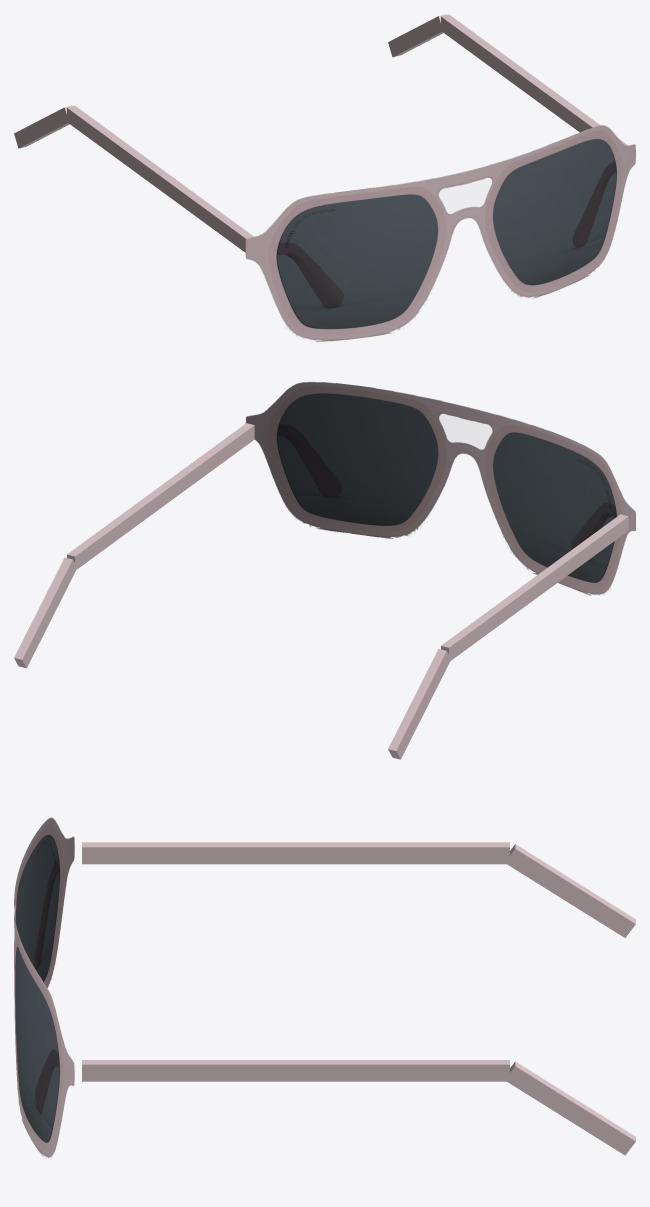
3 renders of one model, top to bottom at view 1: azimuth 30°, elevation 25°; view 2: azimuth 150°, elevation 25°; view 3: azimuth 270°, elevation 25°, orthographic. The views are drawn at different scales.
Parts seen in each view (by area): view 1: anteojo; view 2: anteojo; view 3: anteojo.
Boxes of the visible parts, bbox=[...] form: anteojo: bbox=[14, 14, 635, 341]; anteojo: bbox=[14, 382, 635, 759]; anteojo: bbox=[14, 817, 635, 1158].
Bounding box in the file's own units: 0.142 × 0.0518 × 0.1644.
Materials: 2 (1 with a texture image).
